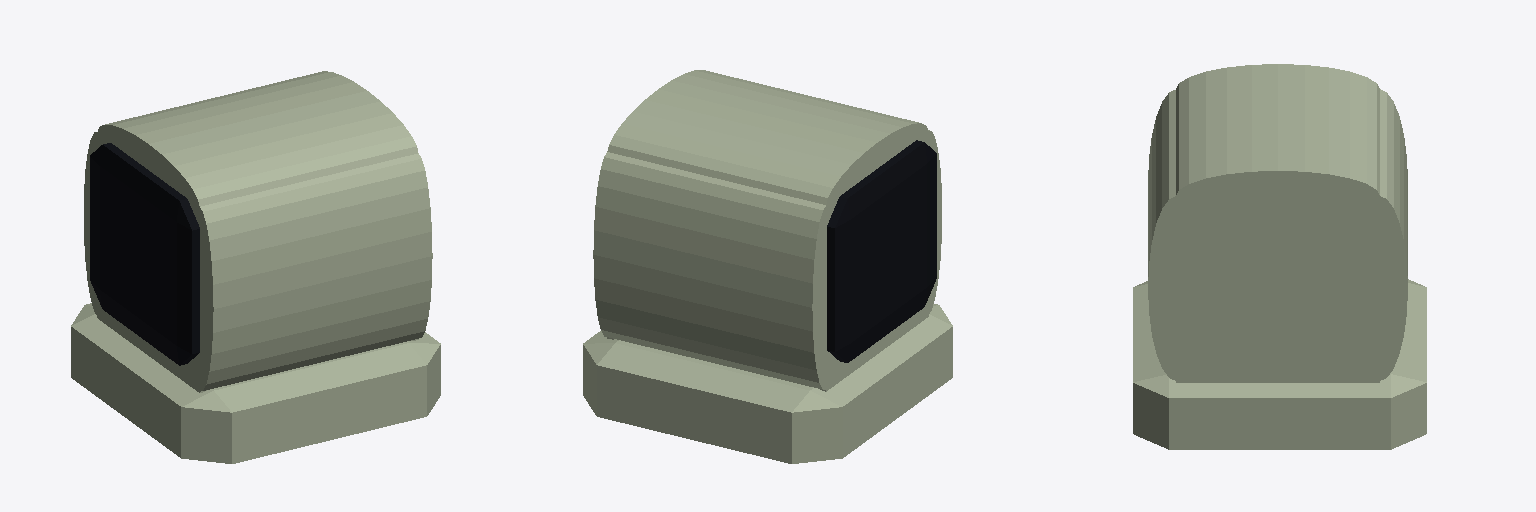
The model's file is AFM_PC_W_Display.obj.
The picture shows the model from 3 angles: view 1: azimuth 30°, elevation 25°; view 2: azimuth 150°, elevation 25°; view 3: azimuth 270°, elevation 25°; orthographic projection.
Visible parts, largest first — view 1: arc, block_bevel, block; view 2: arc, block_bevel, block; view 3: arc, block, block_bevel.
Part boxes in pixels (bbox=[...]): arc: bbox=[84, 71, 432, 391]; block_bevel: bbox=[71, 143, 440, 463]; block: bbox=[97, 134, 418, 392]; arc: bbox=[593, 70, 941, 389]; block_bevel: bbox=[583, 140, 952, 463]; block: bbox=[607, 132, 928, 391]; arc: bbox=[1148, 64, 1407, 380]; block: bbox=[1176, 197, 1379, 382]; block_bevel: bbox=[1133, 279, 1426, 449].
Bounding box in the file's own units: 1.19 × 1.21 × 1.17.